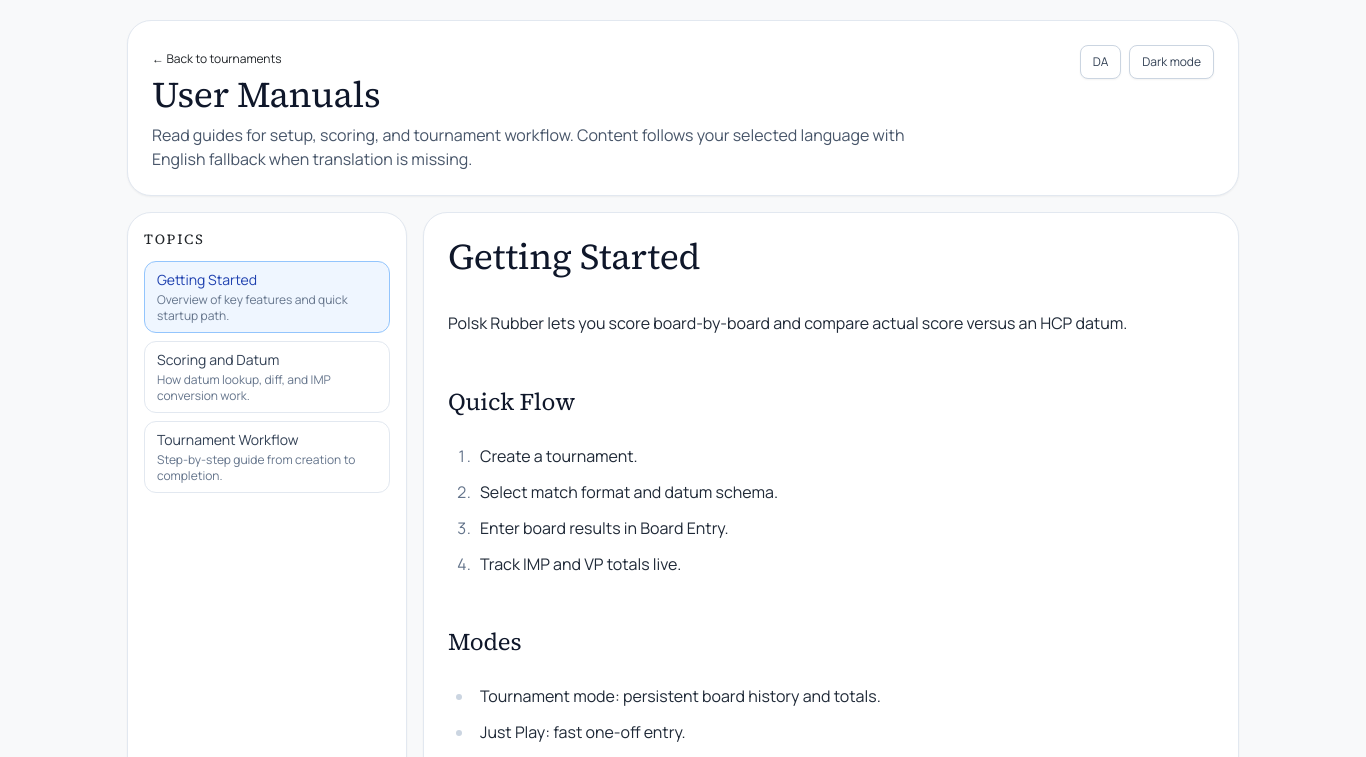
Test: Manuals › switches document when selecting a different topic
Click the button "Scoring and Datum" at (267, 377), box [144,341,390,413]
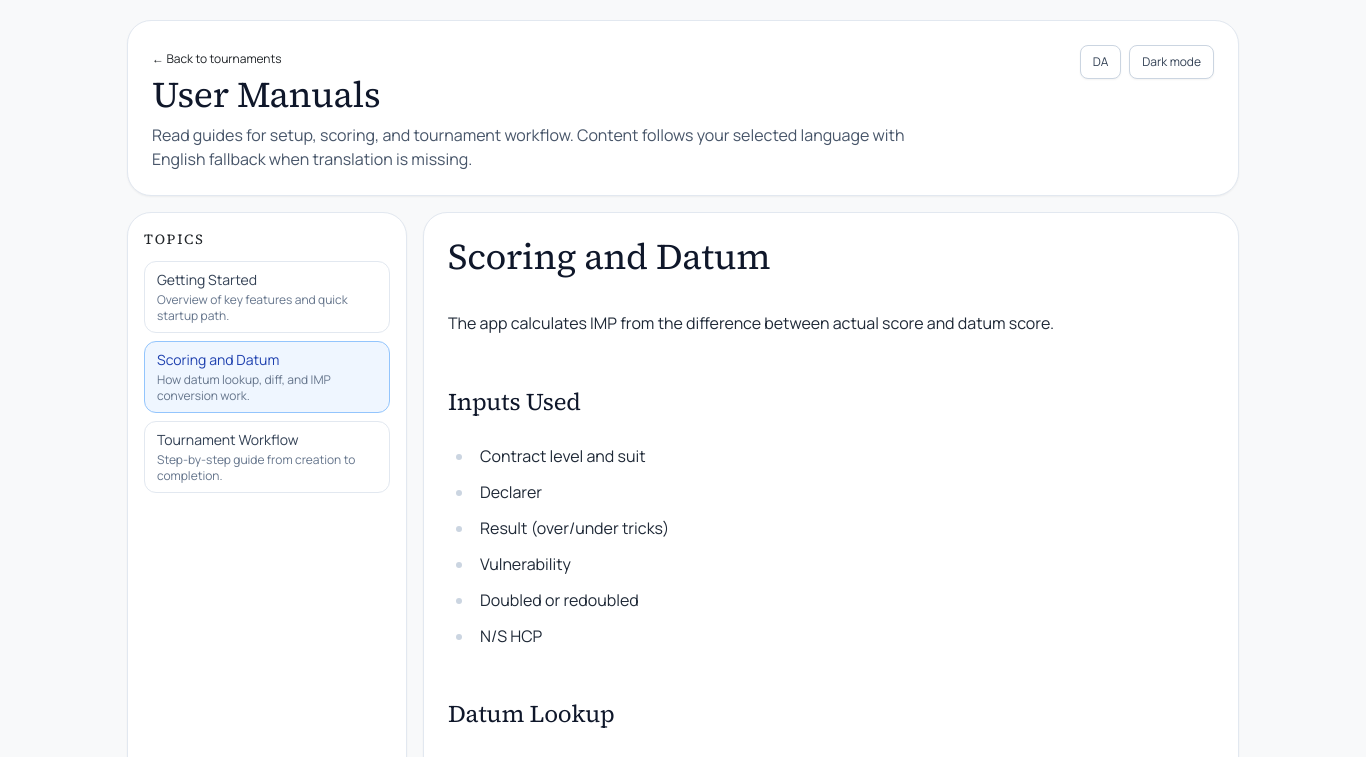
Expected: the heading "Scoring and Datum" is shown, [448,232,770,281]
Expected: the text "The app calculates IMP from the difference" is shown, [448,312,1054,334]
